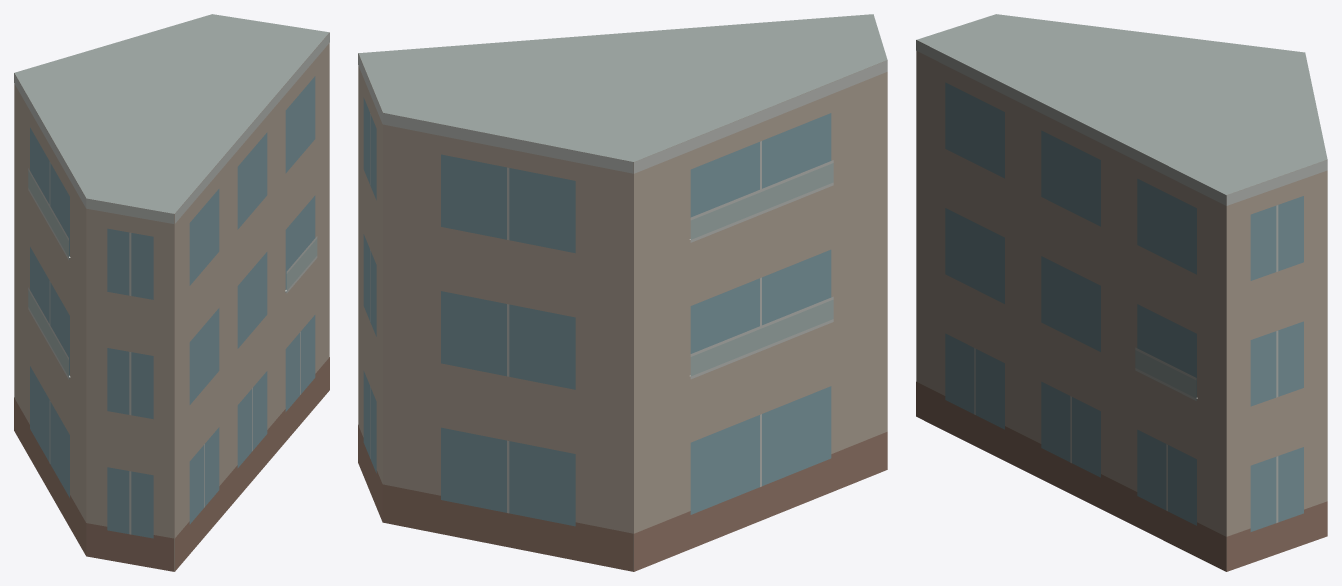
File: survey-upis-32588324.glb
3 renders of one model, left to right at view 1: azimuth 30°, elevation 25°; view 2: azimuth 150°, elevation 25°; view 3: azimuth 270°, elevation 25°, orthographic. The views are drawn at different scales.
Visible parts, largest first — view 1: survey-upis-32588324.tmp; view 2: survey-upis-32588324.tmp; view 3: survey-upis-32588324.tmp.
Boxes of the visible parts, box(x1,y1,x2,y2) form: survey-upis-32588324.tmp: box(14, 14, 329, 571); survey-upis-32588324.tmp: box(358, 14, 887, 571); survey-upis-32588324.tmp: box(916, 14, 1327, 571).
Bounding box in the file's own units: 8.78 × 8.5 × 8.42.
